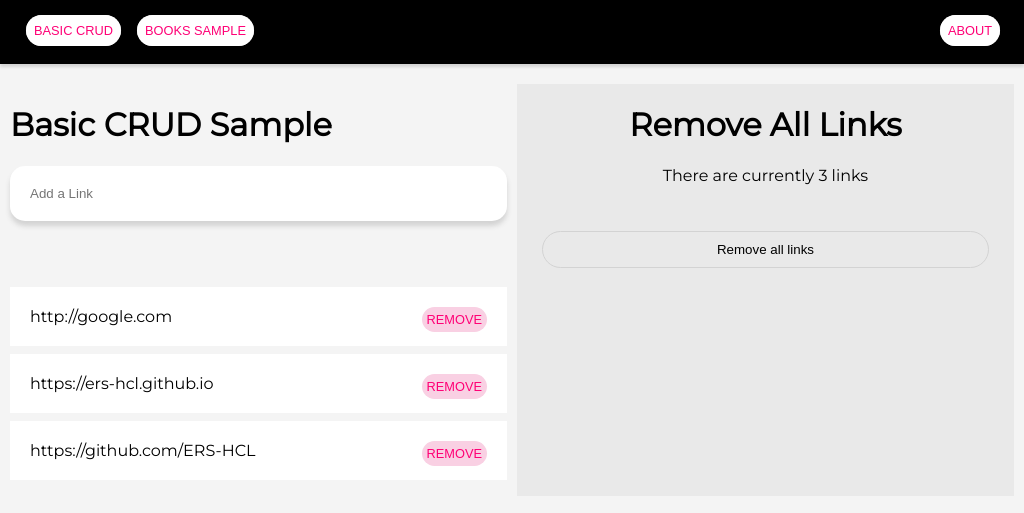
Test: Crud tests › Form submission › removes all entries
Click the button with test id "removeall-btn": (766, 250) [542,231,989,268]
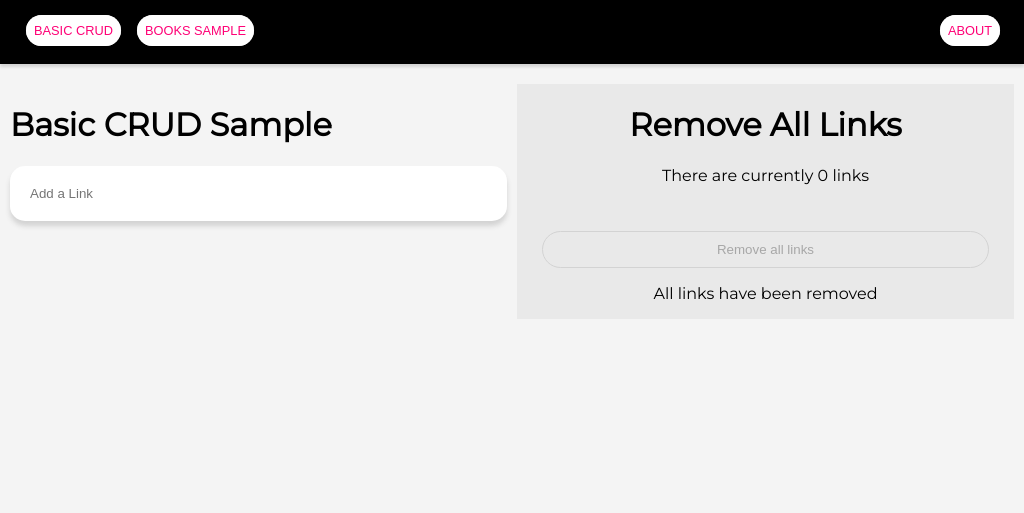
Expected: no list items are shown
Expected: the text "There are currently 0 links" is shown, [662,166,869,185]
